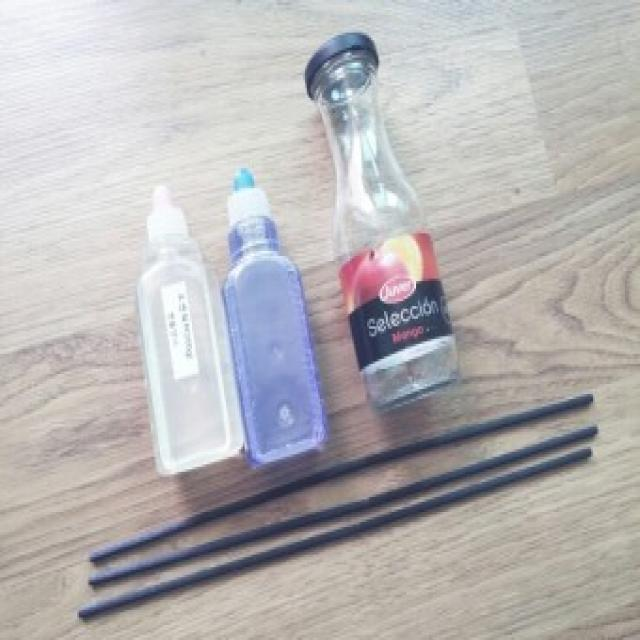glass: (298, 21, 477, 416)
